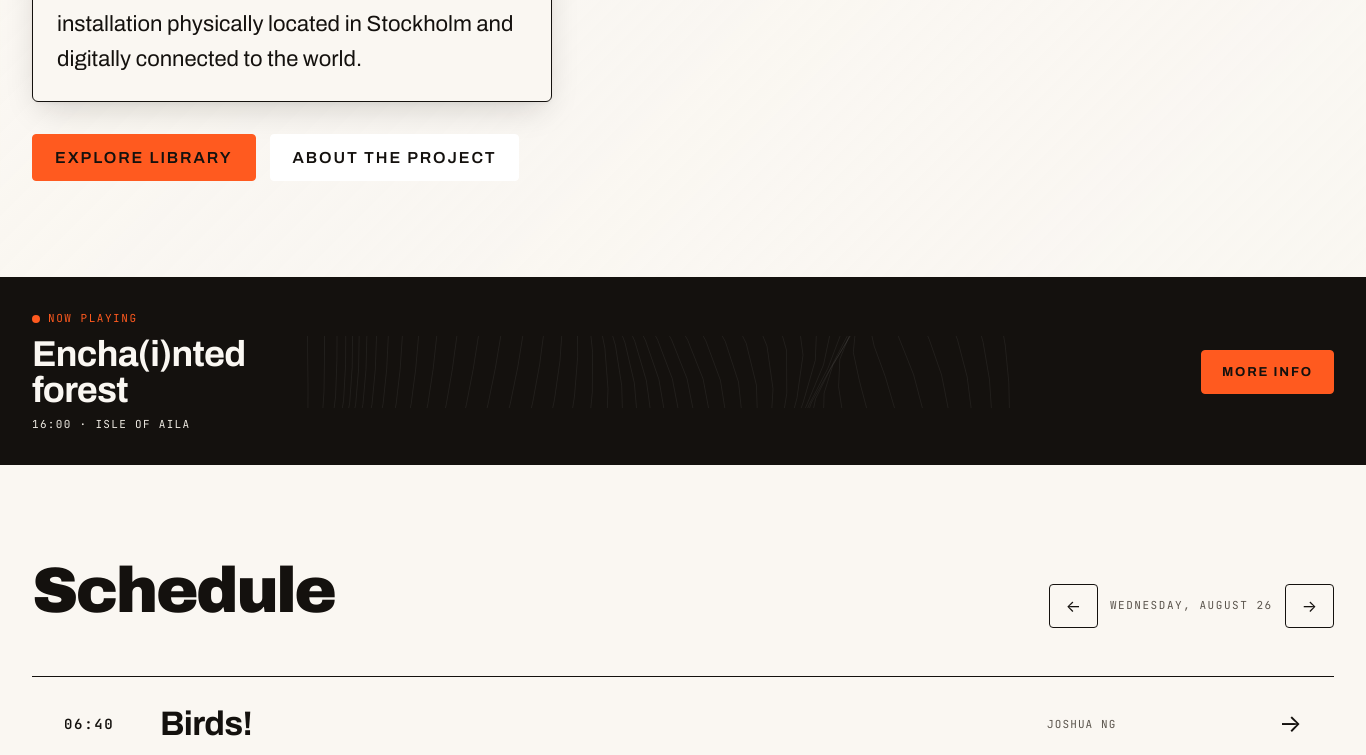
Test case: Home › Schedule Item Expansion › expands schedule item when "More Info" button in black section is clicked
(page scrolled)
What coordinates should you click on to do the following:
click the button "More Info"
I would click on:
 (1267, 372)
Its box is x1=1201 y1=350 x2=1334 y2=394.
(page scrolled)
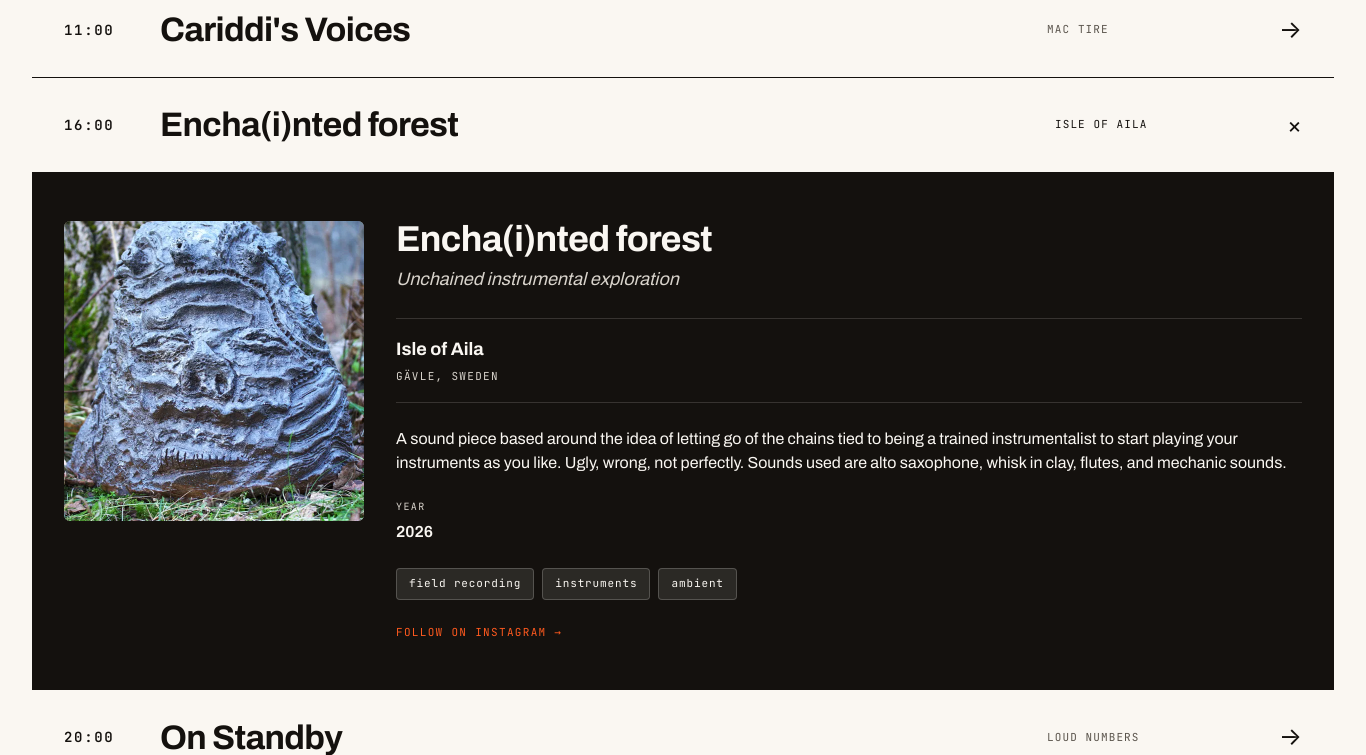
Check: the picture with alt text "Encha(i)nted forest" is shown, box x1=64 y1=222 x2=364 y2=522
